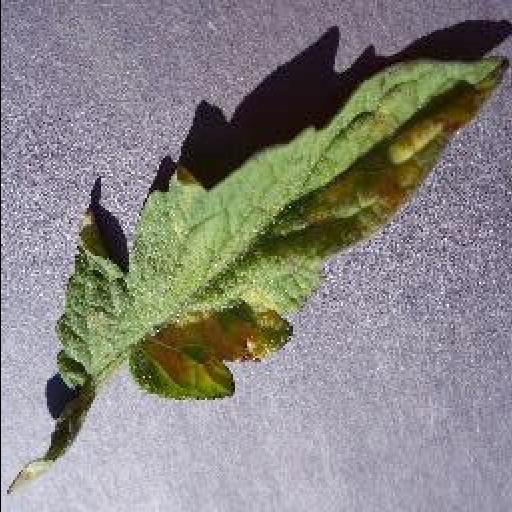disease_tomato: (55, 55, 509, 404)
